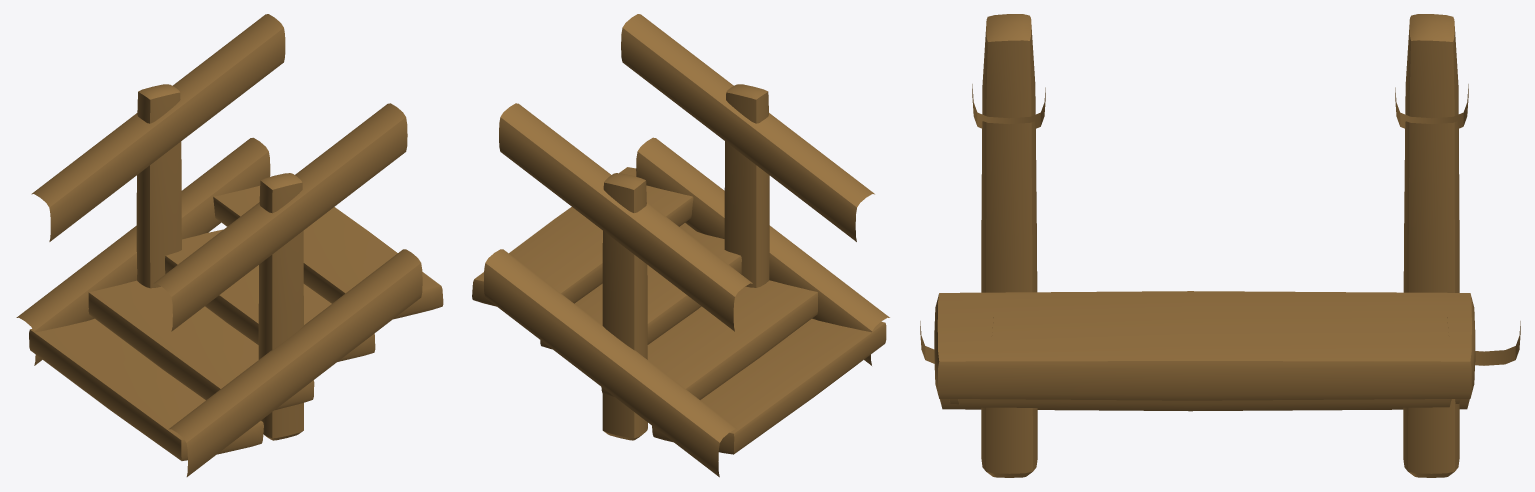
File: Stairs_Modular_Middle.glb
The picture shows the model from 3 angles, left to right: view 1: azimuth 30°, elevation 25°; view 2: azimuth 150°, elevation 25°; view 3: azimuth 270°, elevation 25°; orthographic projection. The views are drawn at different scales.
Visible parts, largest first — view 1: Stairs_Modular_Middle; view 2: Stairs_Modular_Middle; view 3: Stairs_Modular_Middle.
Boxes of the visible parts, x1=… form: Stairs_Modular_Middle: x1=16, y1=14, x2=443, y2=476; Stairs_Modular_Middle: x1=472, y1=14, x2=889, y2=477; Stairs_Modular_Middle: x1=920, y1=14, x2=1520, y2=477.
Bounding box in the file's own units: 2.26 × 2.43 × 2.56.
